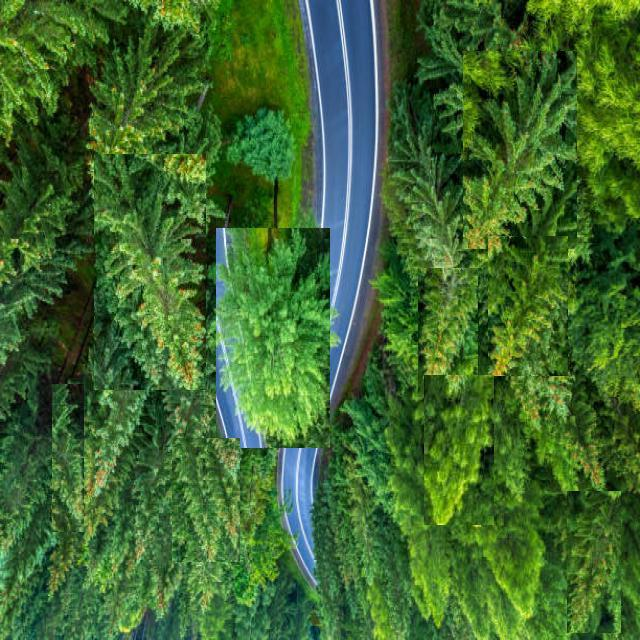tree: (94, 154, 206, 390), (216, 228, 330, 448), (463, 51, 577, 249), (84, 23, 194, 193), (488, 236, 568, 376), (398, 115, 466, 279), (424, 375, 494, 525), (172, 438, 240, 562), (484, 493, 544, 621), (567, 491, 621, 633), (418, 268, 478, 392), (89, 374, 151, 492), (52, 384, 84, 532), (170, 368, 210, 480), (130, 479, 170, 561), (46, 526, 82, 602), (150, 548, 187, 620)
